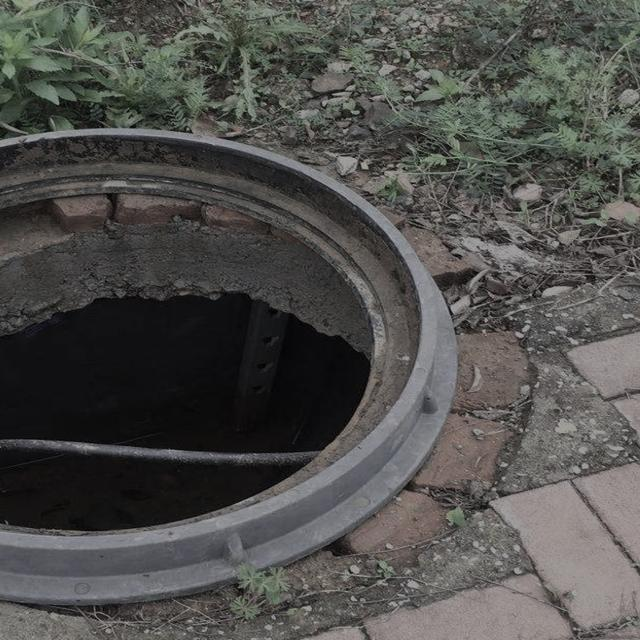lose: (0, 128, 459, 609)
